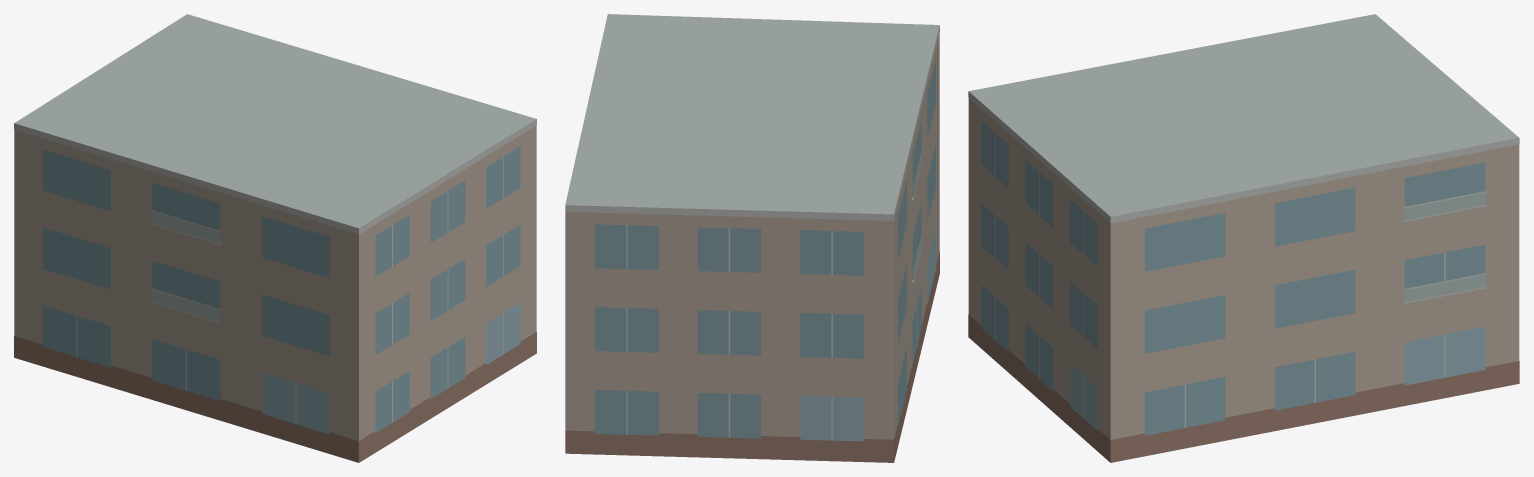
File: survey-upis-32736071.glb
3 views of the same model, side by side, from view 1: azimuth 30°, elevation 25°; view 2: azimuth 150°, elevation 25°; view 3: azimuth 270°, elevation 25° (orthographic). The views are drawn at different scales.
Parts seen in each view (by area): view 1: survey-upis-32736071.tmp; view 2: survey-upis-32736071.tmp; view 3: survey-upis-32736071.tmp.
Part boxes in pixels (x1,y1,x2,y2): survey-upis-32736071.tmp: (14, 14, 536, 462); survey-upis-32736071.tmp: (565, 14, 939, 462); survey-upis-32736071.tmp: (968, 14, 1519, 462).
Size of the model in its own units: 16.2 by 9.15 by 18.58.
